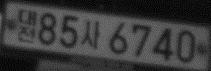0: (176, 29, 196, 63)
4: (152, 27, 172, 60)
5: (59, 15, 78, 48)
6: (108, 21, 128, 54)
7: (131, 23, 151, 57)
8: (38, 11, 56, 45)
대전_V: (16, 7, 38, 44)
사: (80, 19, 101, 48)
